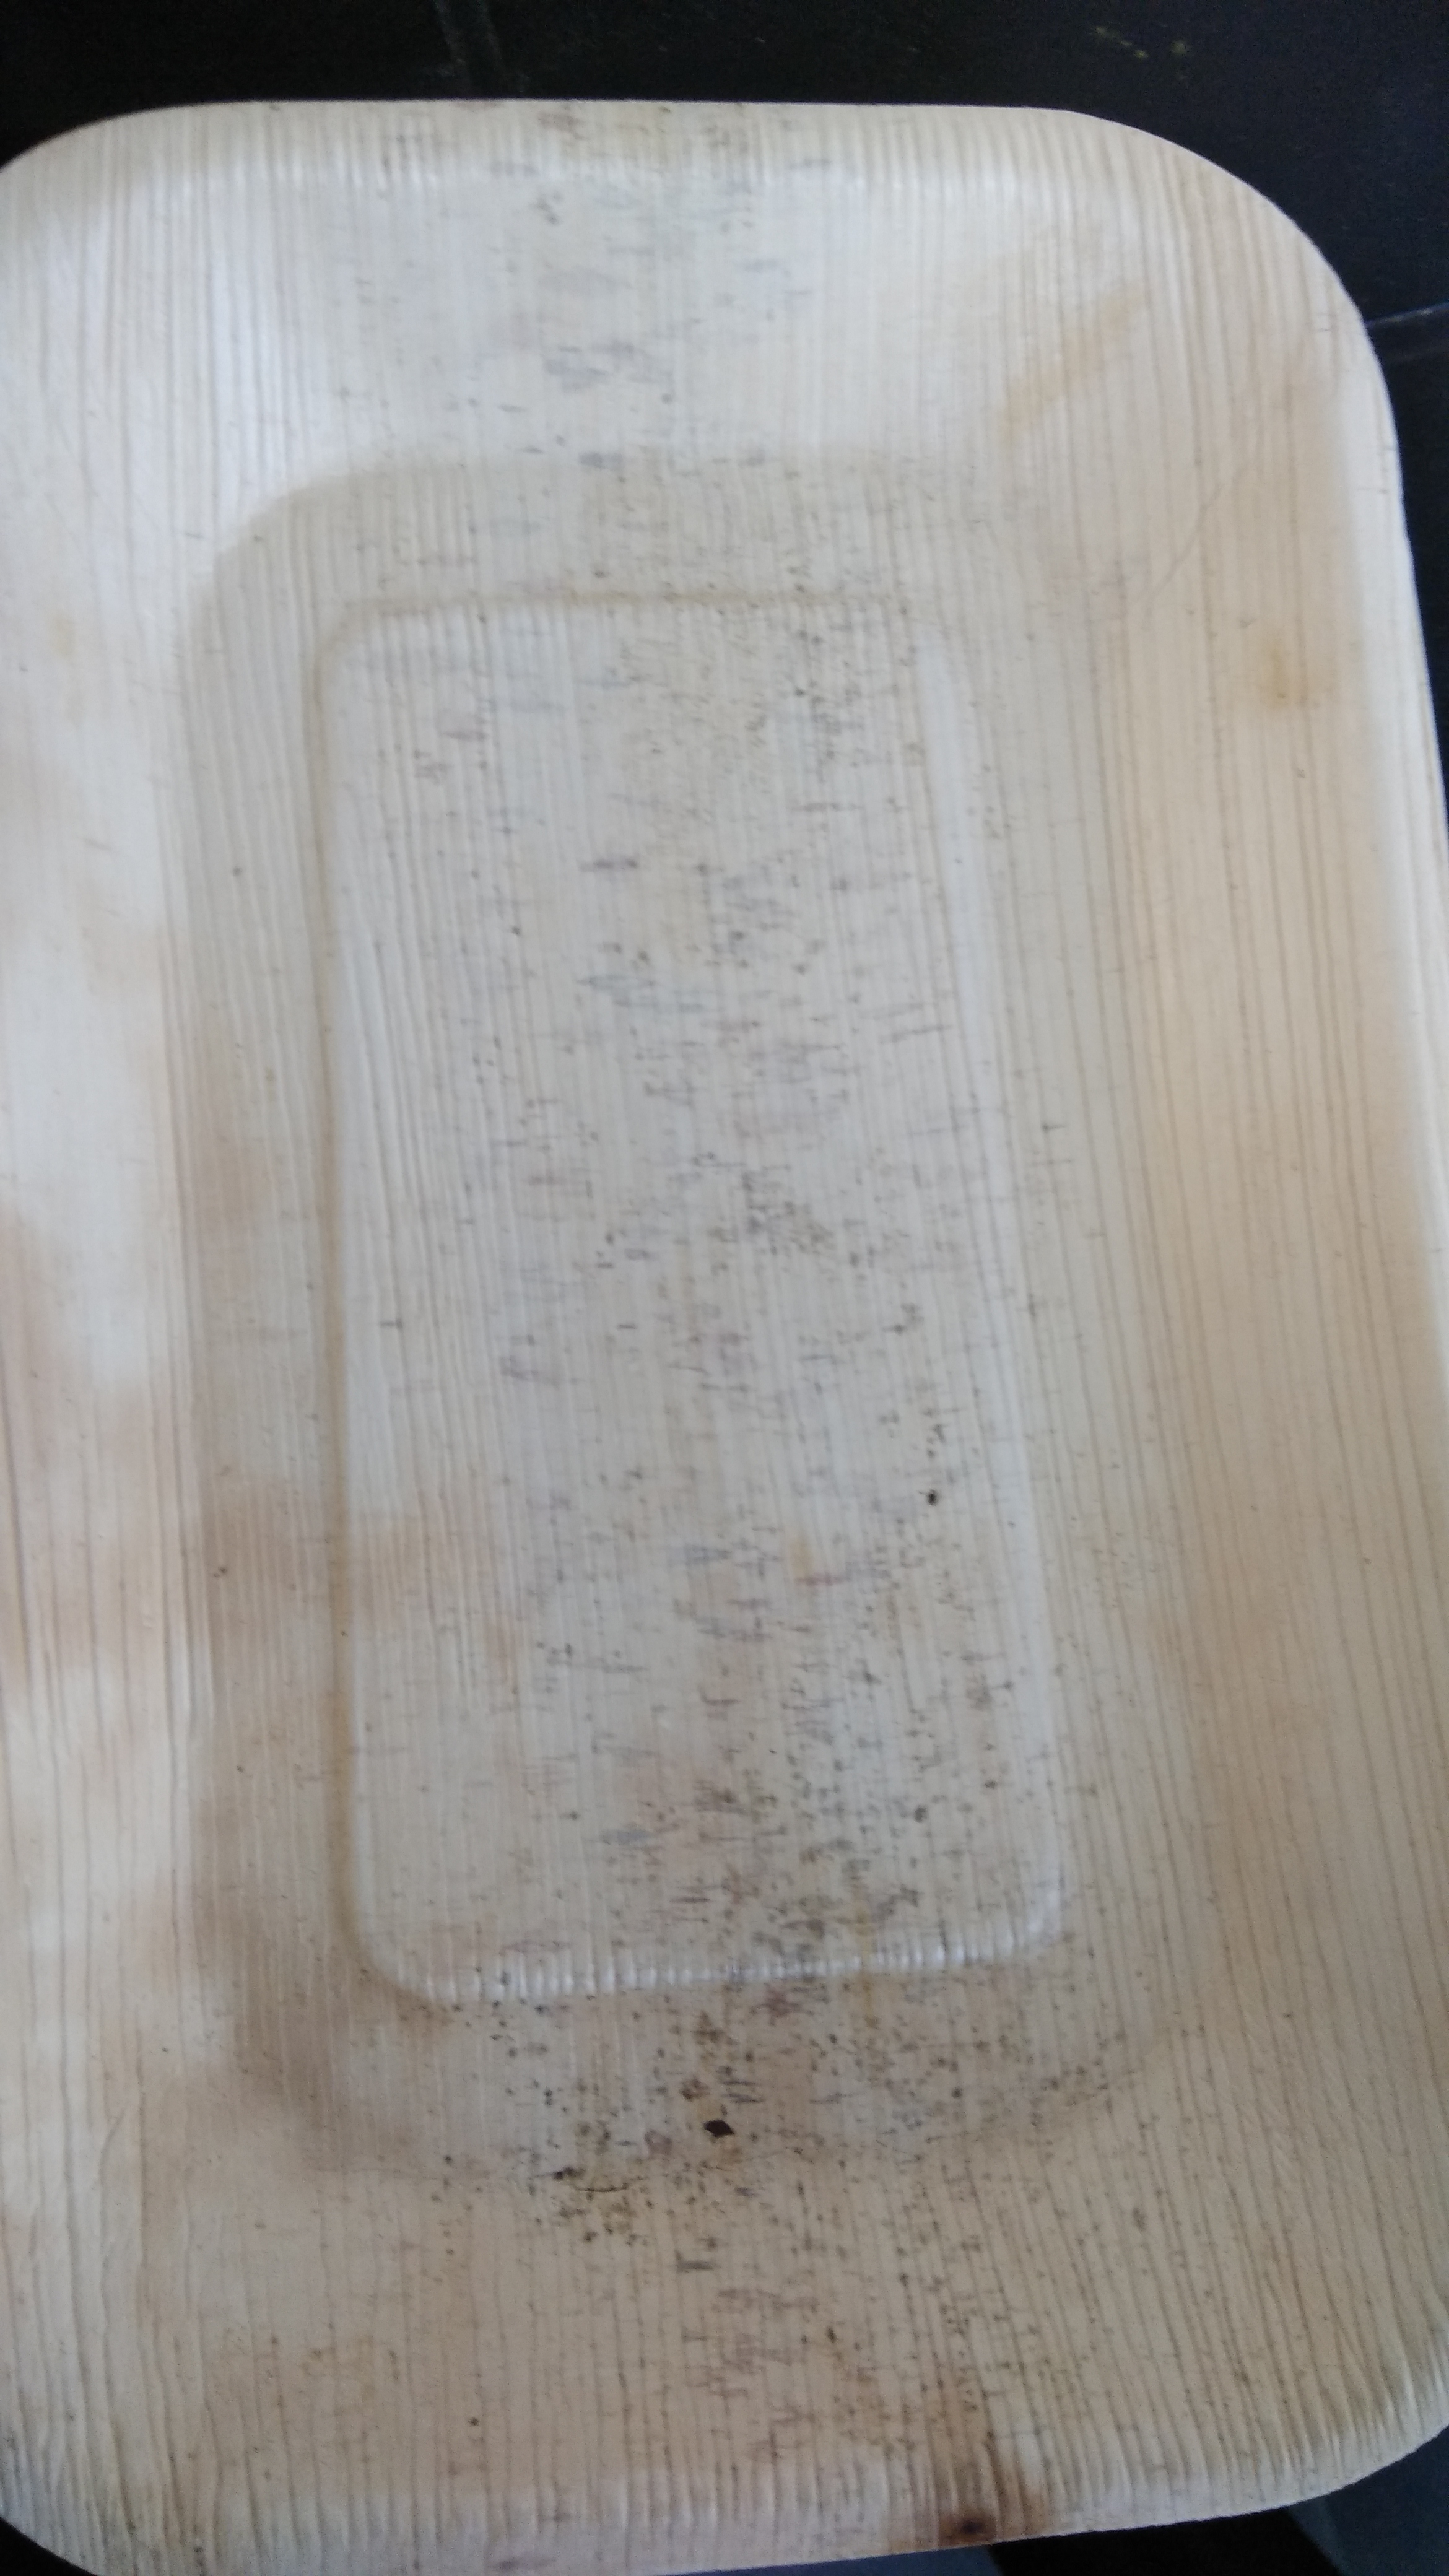areca plate: (21, 90, 1449, 2546)
